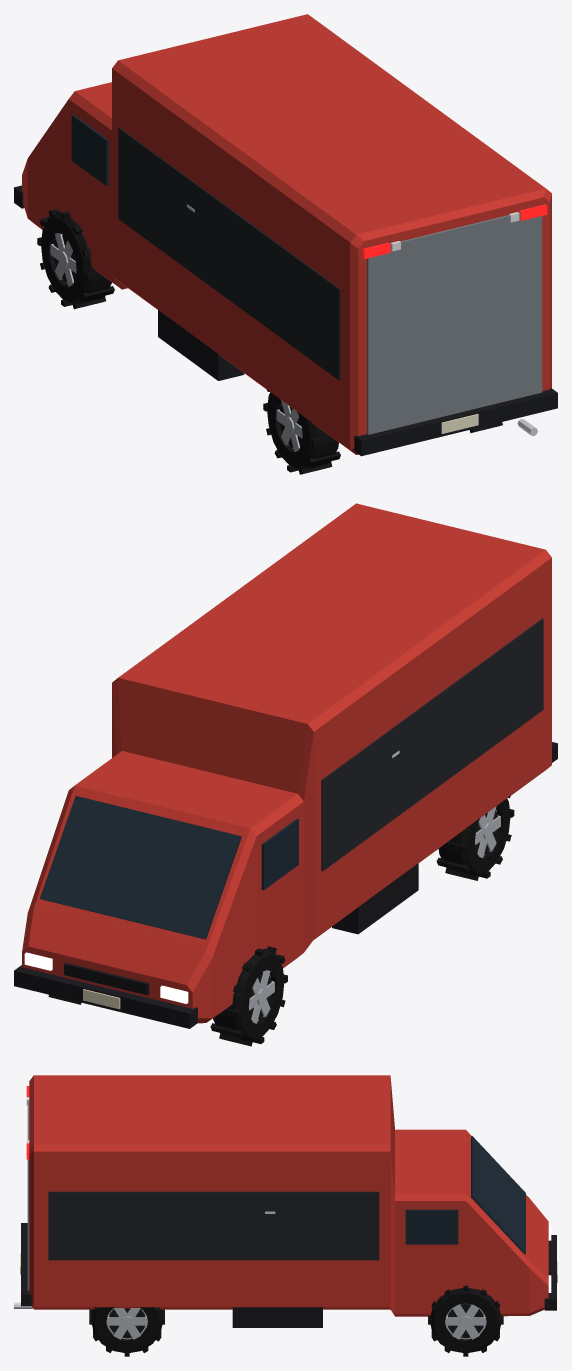
Rendered from truck.glb.
3 views of the same model, one above another, from view 1: azimuth 30°, elevation 25°; view 2: azimuth 150°, elevation 25°; view 3: azimuth 270°, elevation 25° (orthographic). The views are drawn at different scales.
Parts seen in each view (by area): view 1: truck_Body, truck_Top, truck_Wheel_FL, truck_Wheel_RL; view 2: truck_Body, truck_Top, truck_Wheel_FL, truck_Wheel_RL; view 3: truck_Body, truck_Top, truck_Wheel_FR, truck_Wheel_RR.
Part boxes in pixels (bbox=[...]): truck_Body: bbox=[22, 14, 551, 454]; truck_Top: bbox=[14, 114, 557, 456]; truck_Wheel_FL: bbox=[37, 209, 114, 309]; truck_Wheel_RL: bbox=[263, 389, 340, 474]; truck_Body: bbox=[22, 503, 551, 1023]; truck_Top: bbox=[14, 618, 557, 1028]; truck_Wheel_FL: bbox=[210, 946, 287, 1046]; truck_Wheel_RL: bbox=[436, 795, 514, 880]; truck_Body: bbox=[29, 1075, 548, 1316]; truck_Top: bbox=[14, 1086, 557, 1327]; truck_Wheel_FR: bbox=[428, 1285, 503, 1356]; truck_Wheel_RR: bbox=[89, 1307, 164, 1356].
Bounding box in the file's own units: 2.36 × 3.08 × 7.23.
